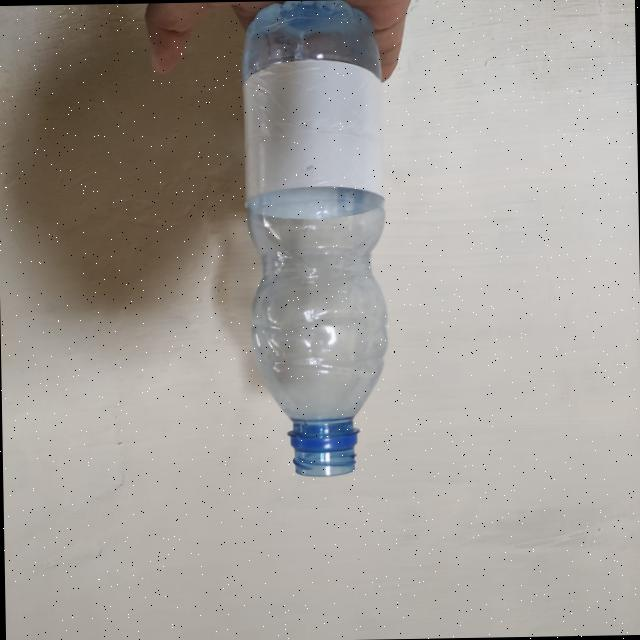bottle: (232, 0, 392, 495)
label: (239, 66, 388, 212)
